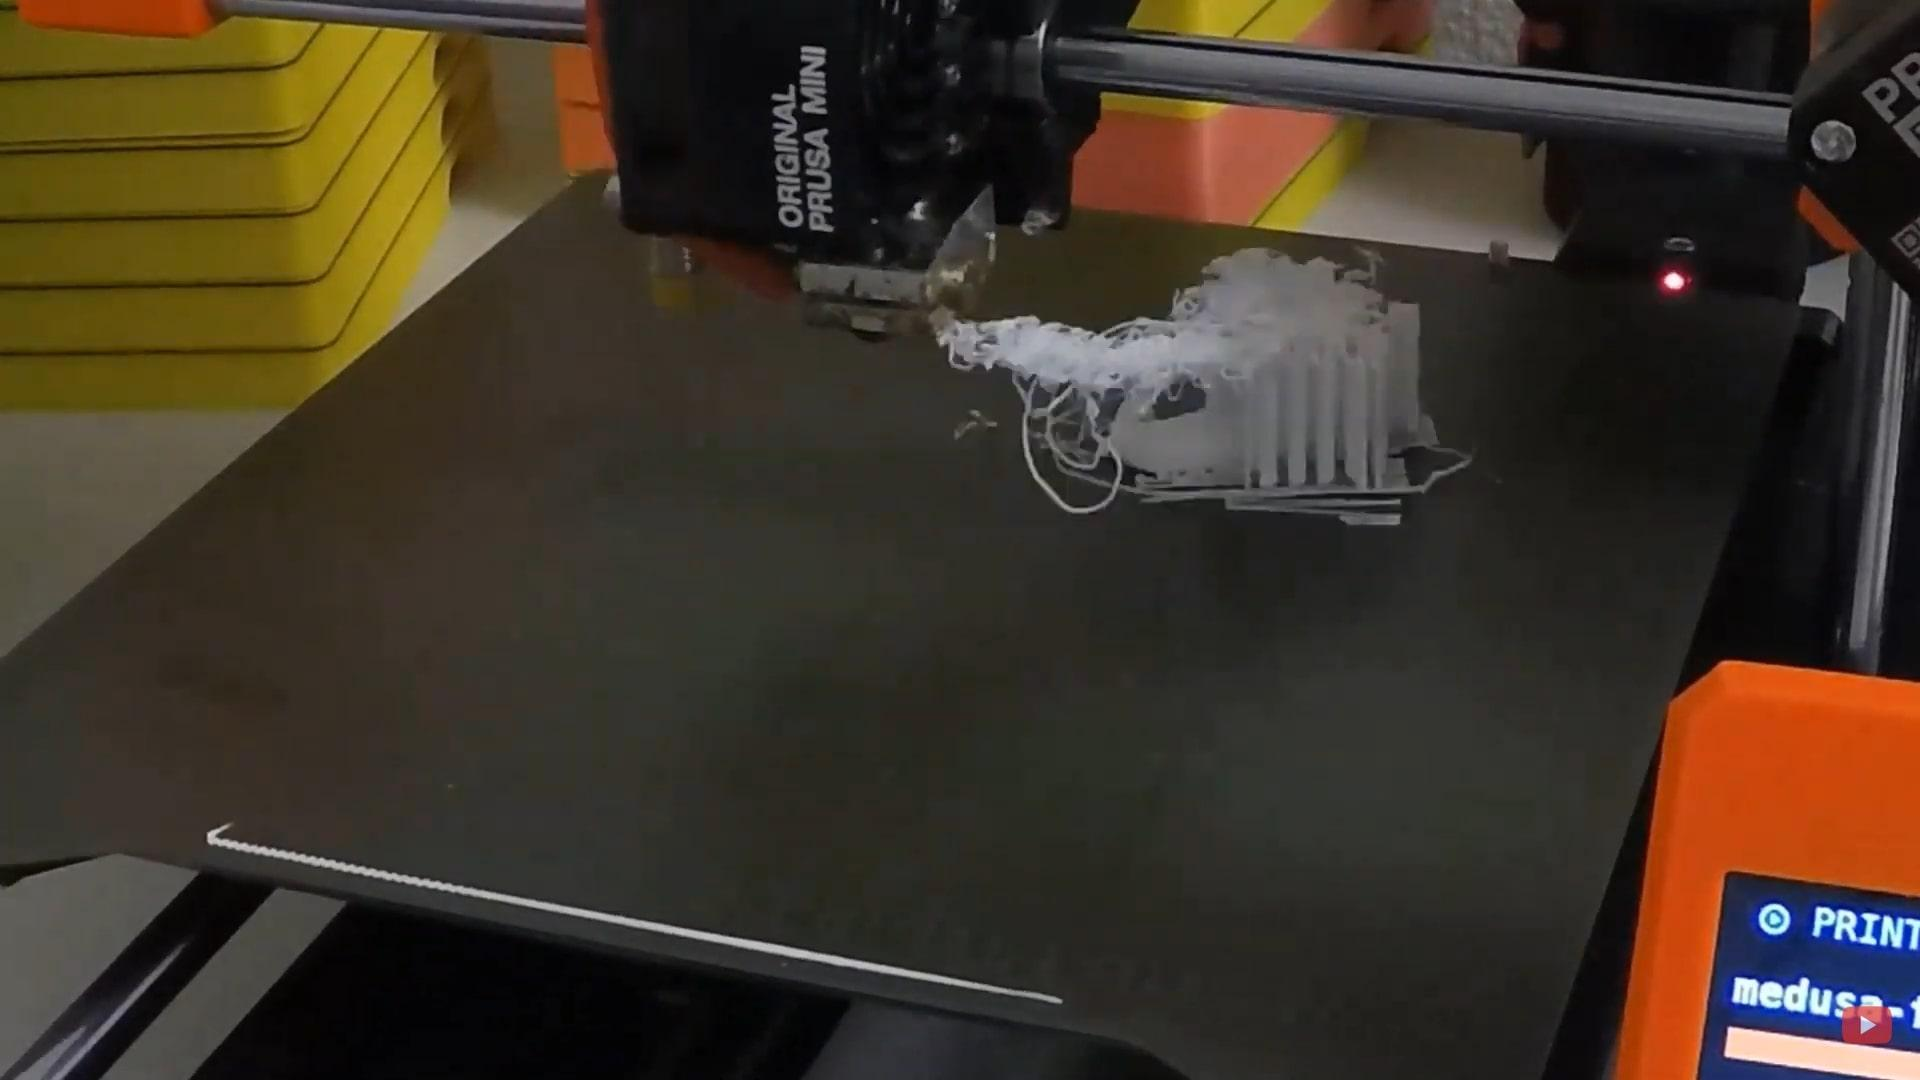Printing-Artifact: (881, 262, 1187, 531)
